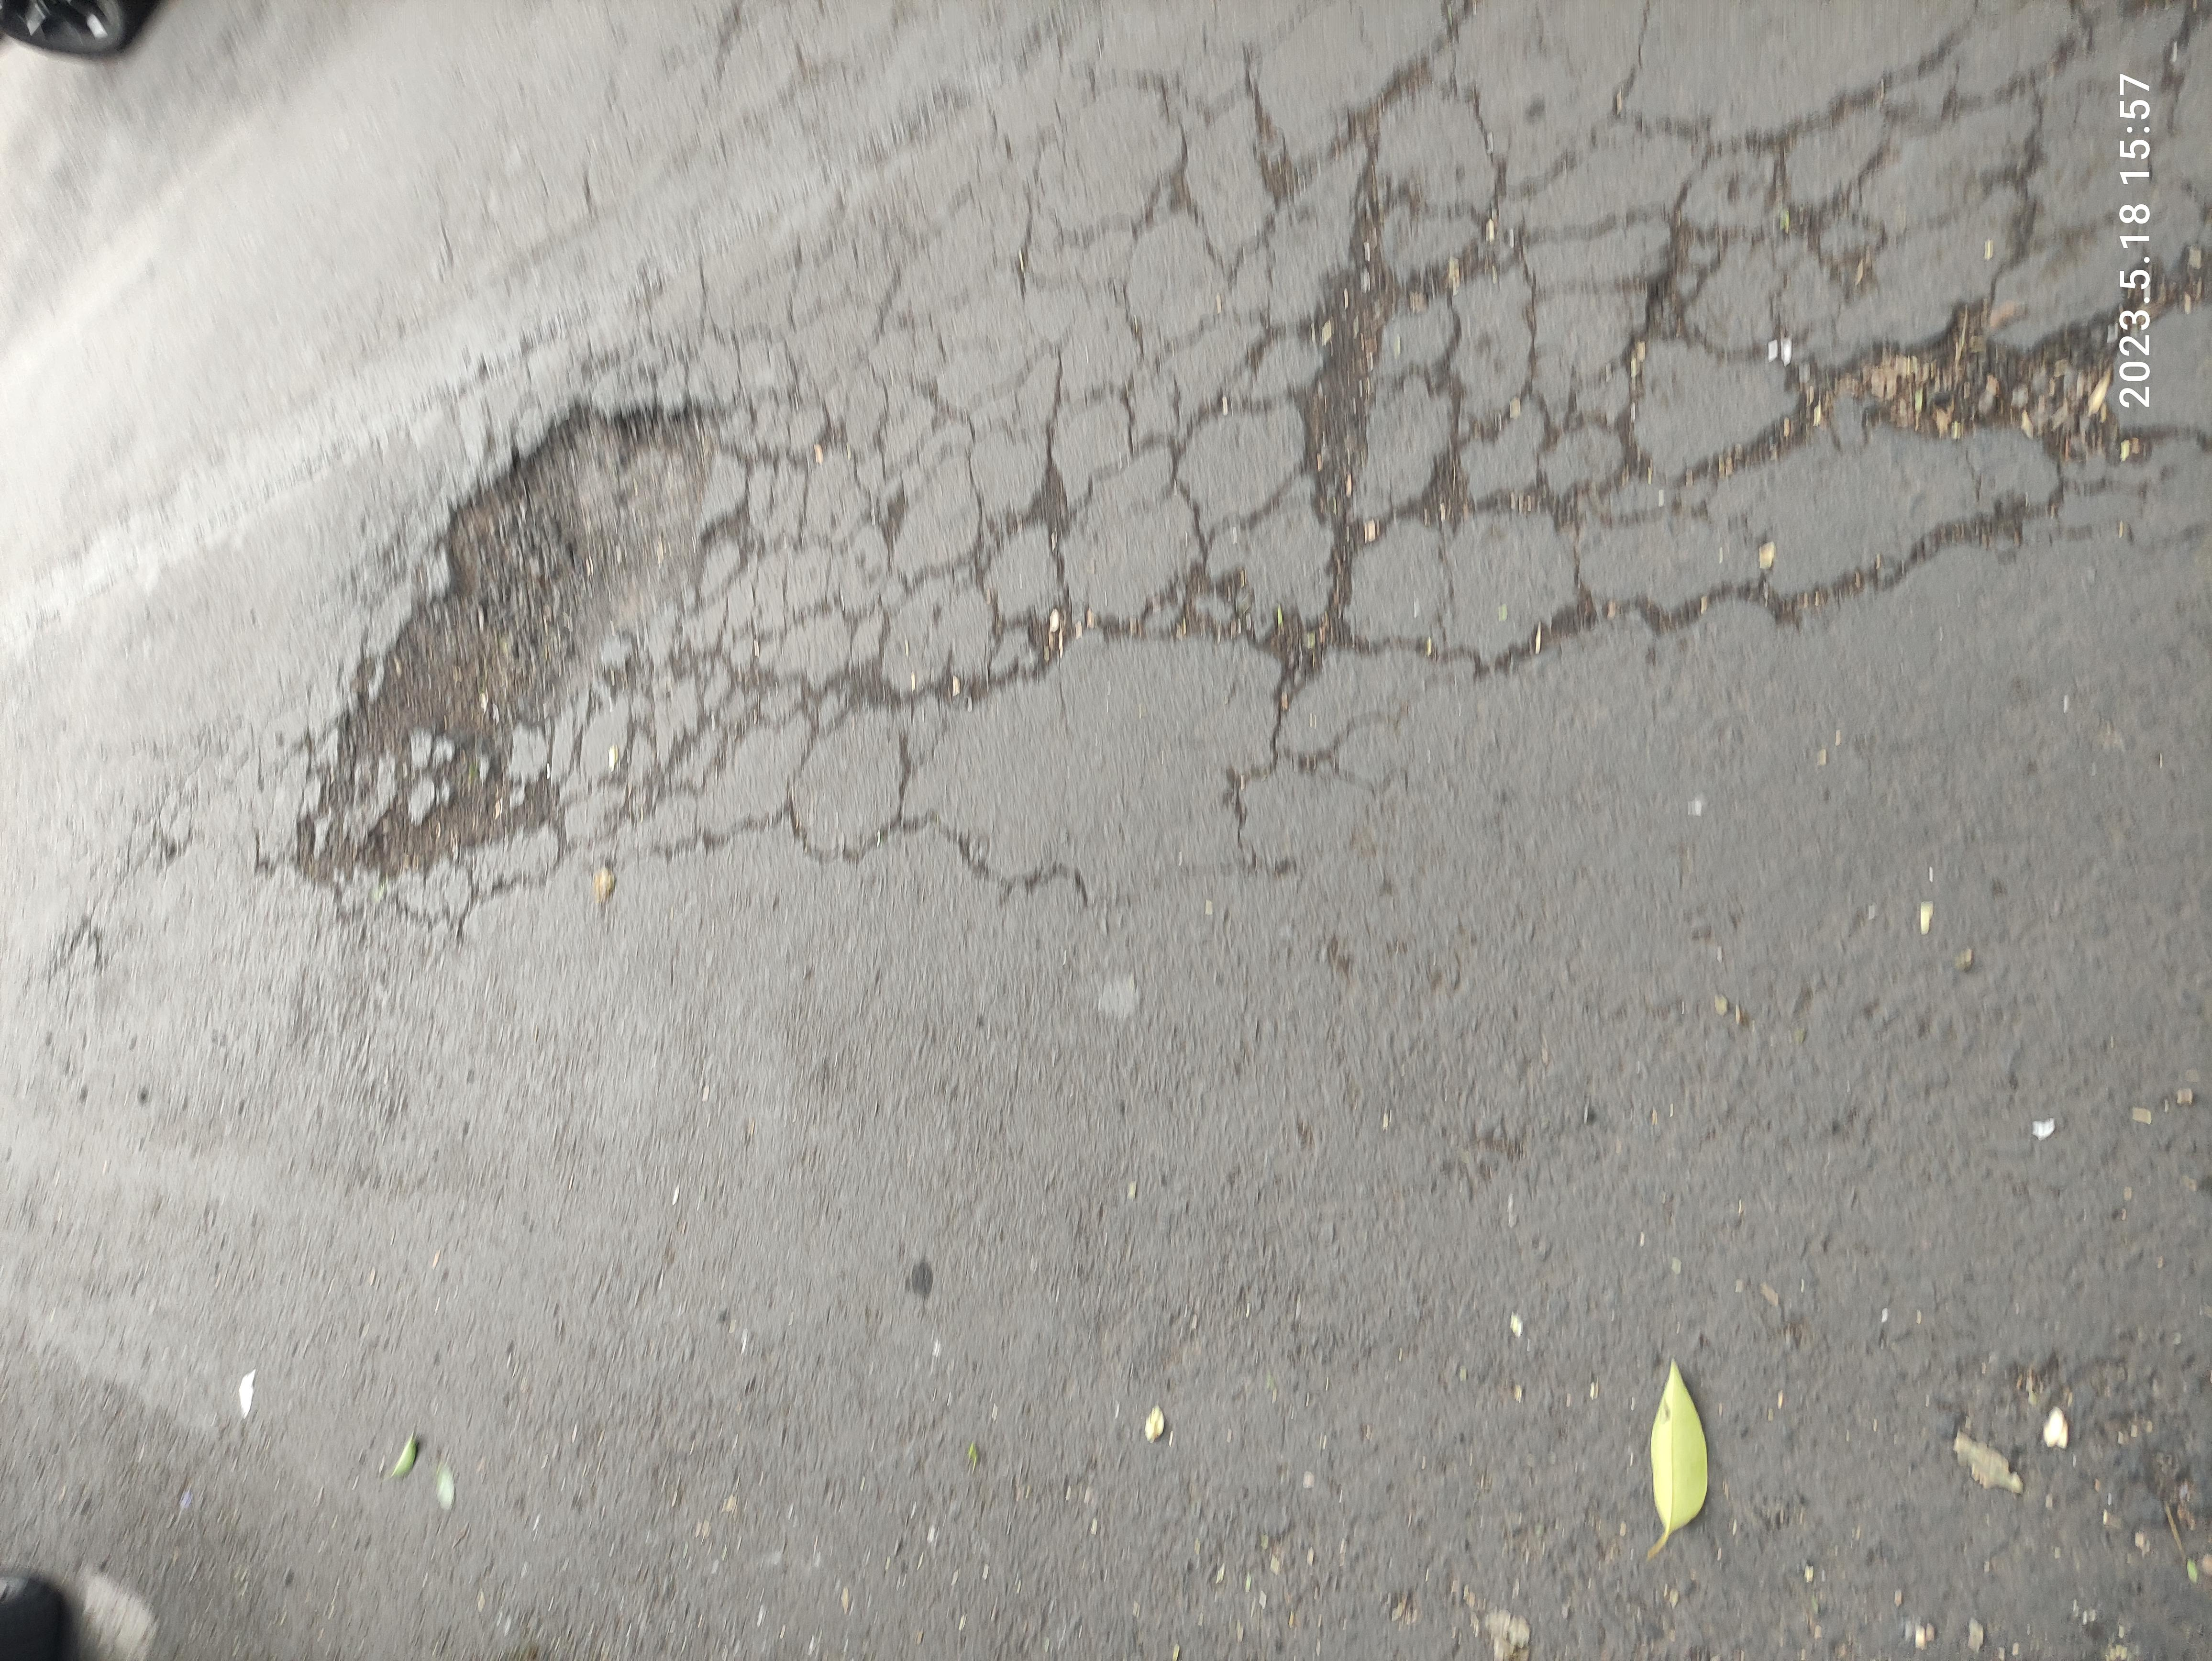alligator-crack: (975, 237, 2212, 1661)
pothole: (1019, 216, 1711, 550)
